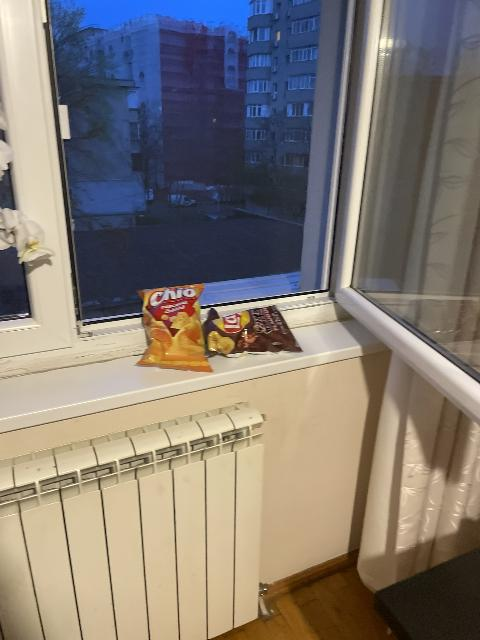Chio Cascaval 125g: (133, 284, 212, 369)
Lays Beef Grilled Ribs 125g: (202, 304, 302, 357)
